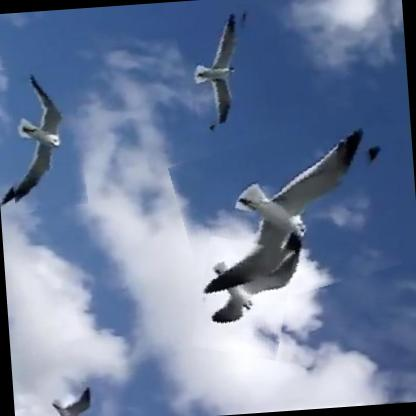bird: (172, 121, 396, 311), (190, 235, 296, 362), (0, 61, 84, 213), (178, 14, 265, 127), (40, 387, 99, 416)
